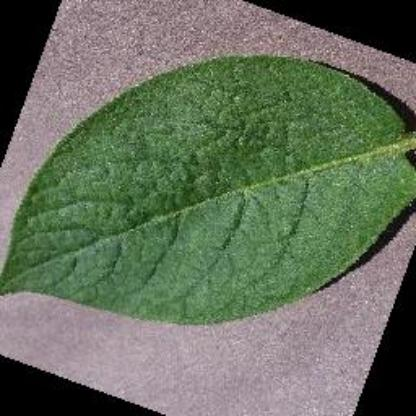Healthy-plant: (0, 44, 416, 340)
